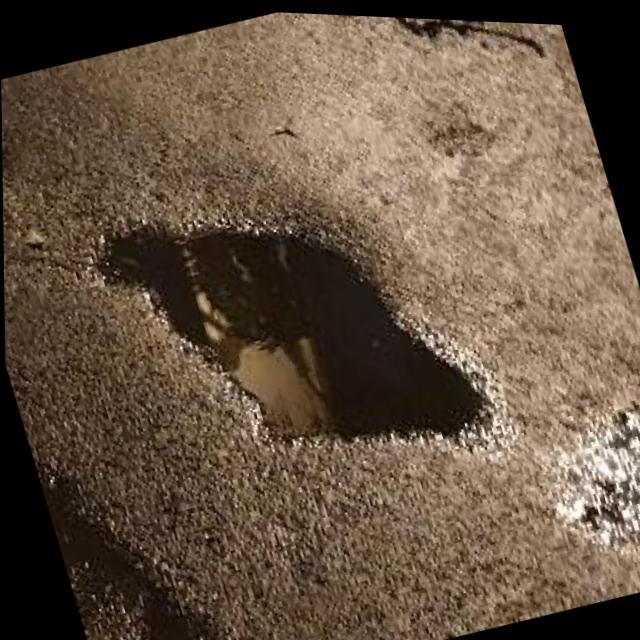puddle: (82, 134, 502, 535), (41, 449, 204, 640)
